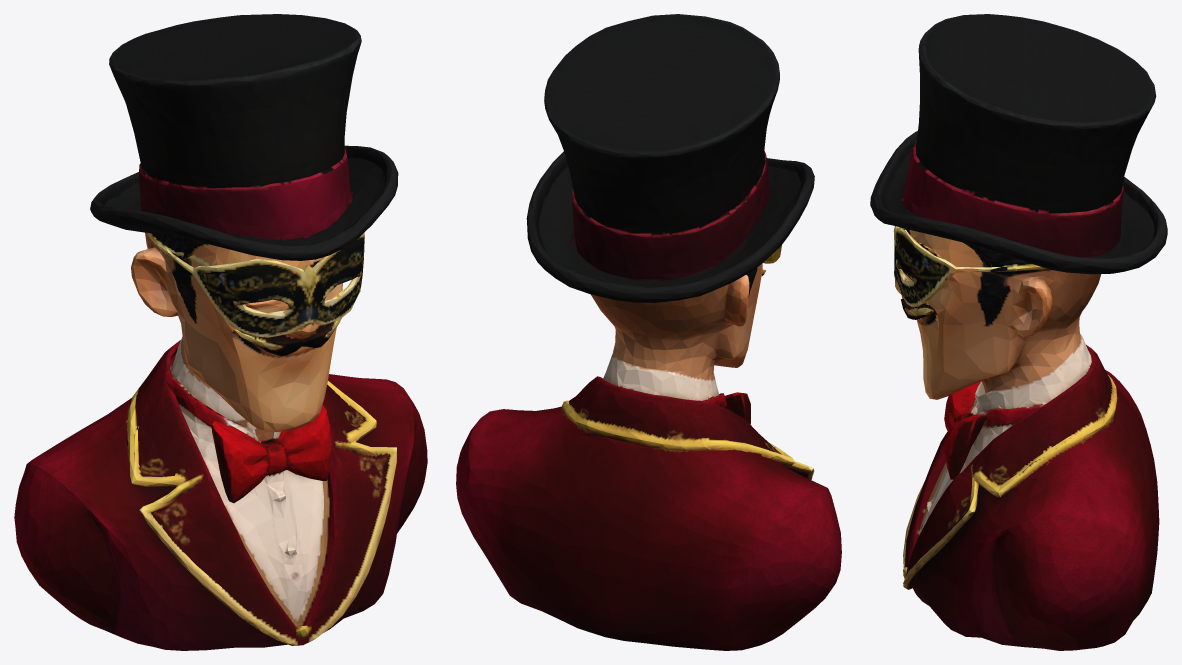
File: raw.glb
The picture shows the model from 3 angles, left to right: view 1: azimuth 30°, elevation 25°; view 2: azimuth 150°, elevation 25°; view 3: azimuth 270°, elevation 25°; orthographic projection. The views are drawn at different scales.
Bounding box in the file's own units: 0.725 × 1 × 0.4989.
1 material, 1 textured.
